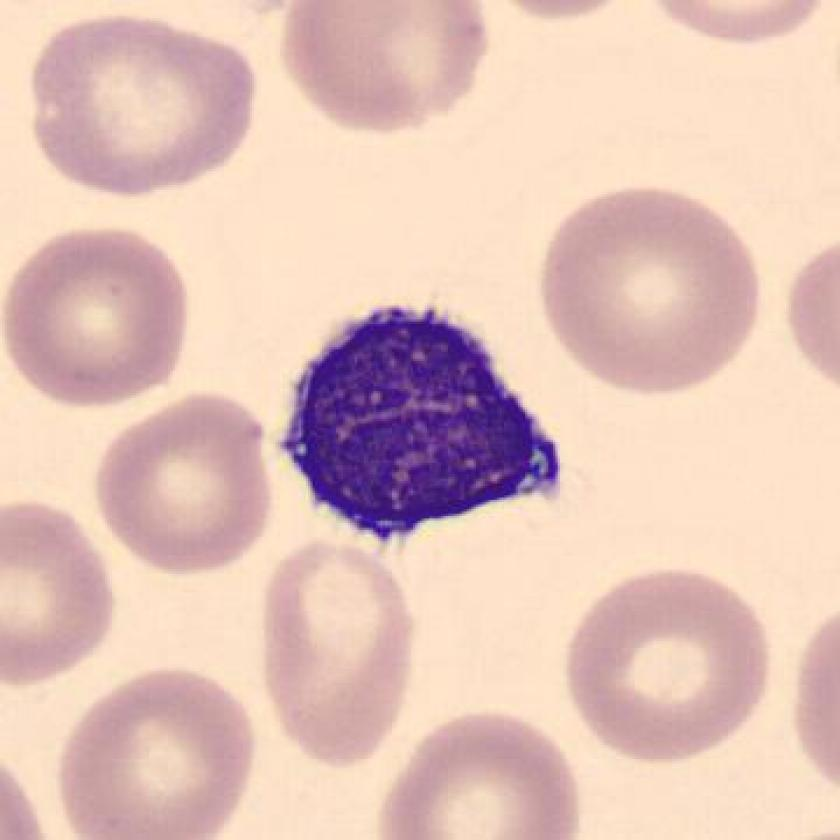lymphocyte: (262, 286, 580, 552)
